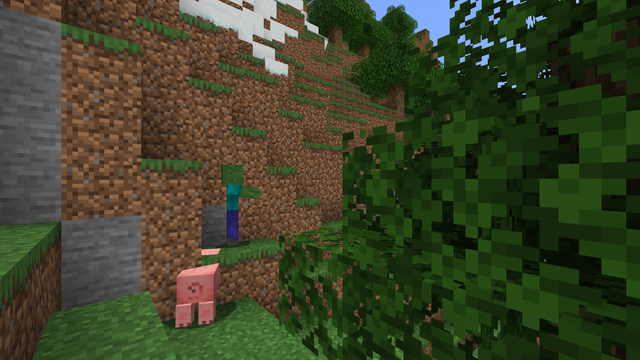cochons: (173, 260, 231, 327)
zombies: (217, 166, 247, 247)
